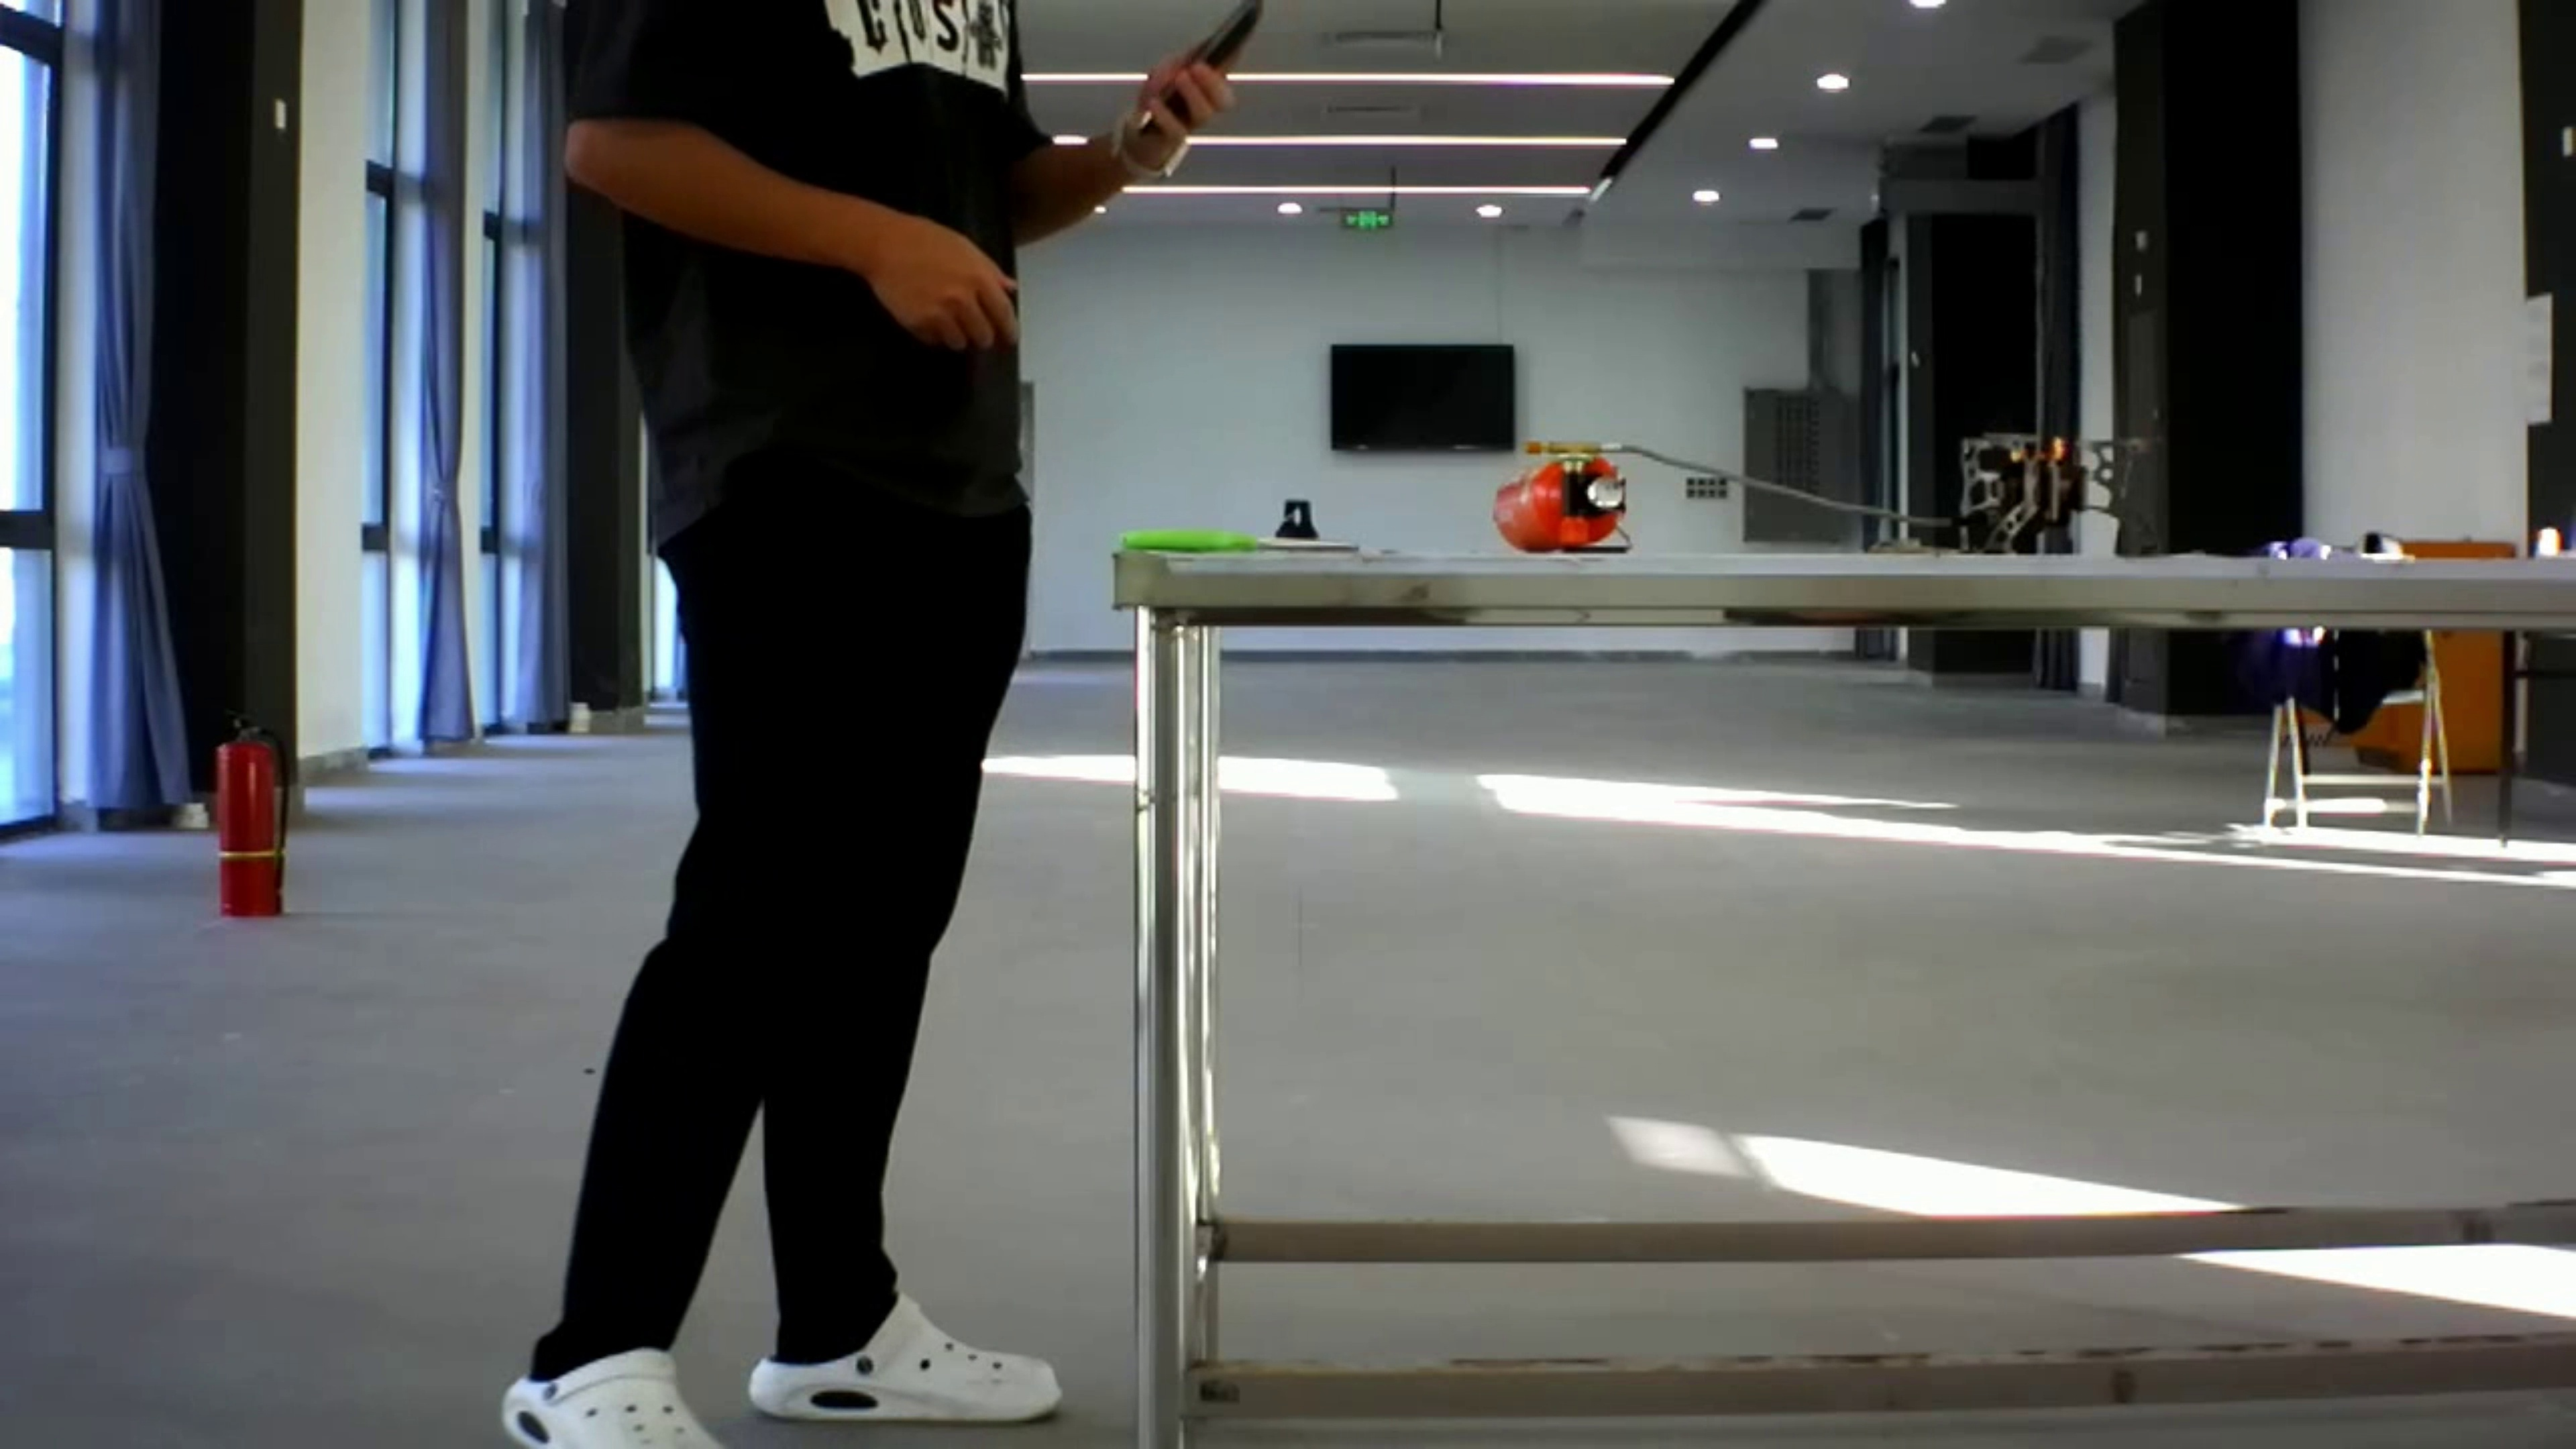Fire: (1996, 416, 2077, 479)
